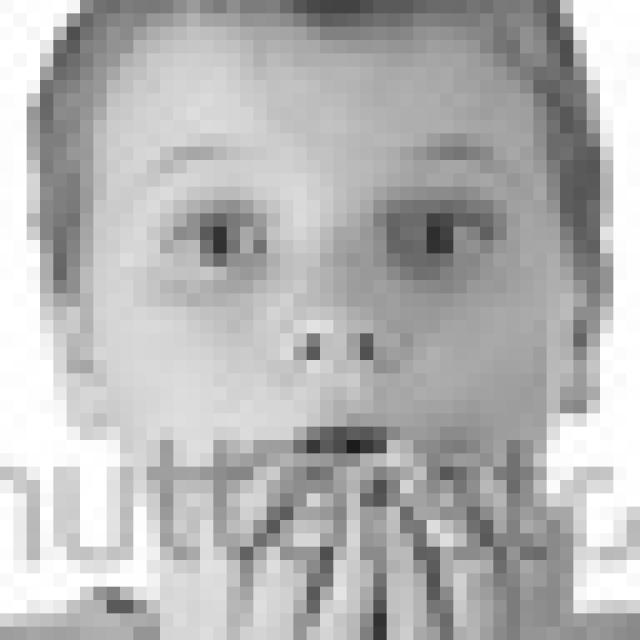fear: (109, 131, 523, 516)
